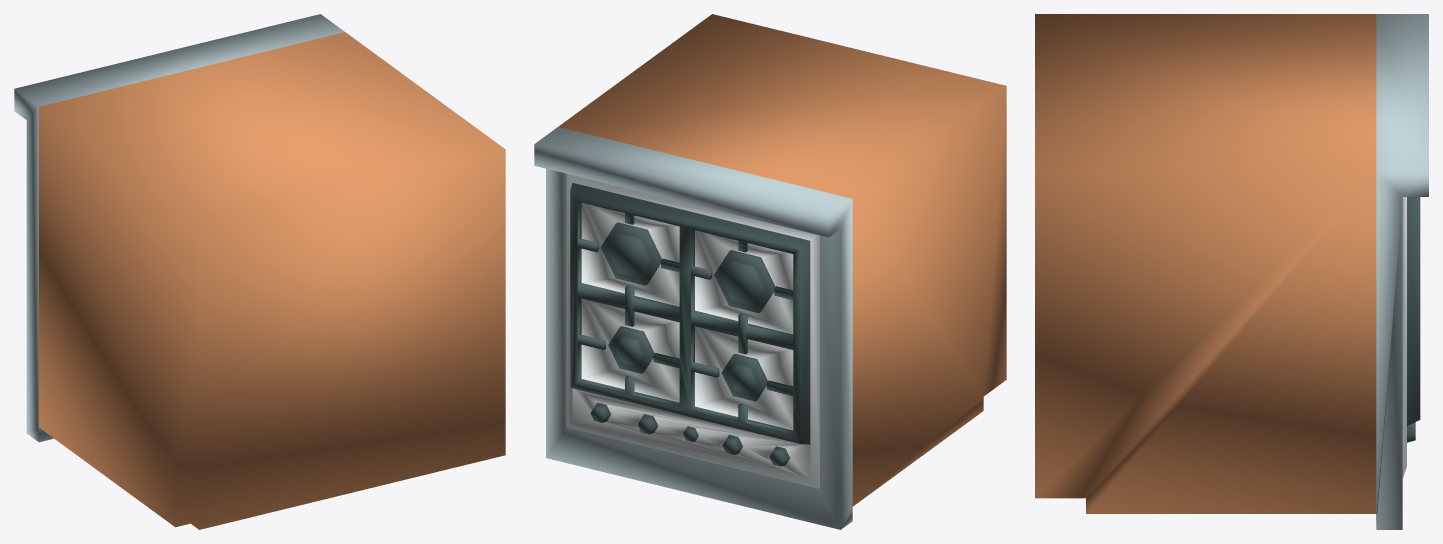
File: kitchenStove.obj
The picture shows the model from 3 angles, left to right: view 1: azimuth 30°, elevation 25°; view 2: azimuth 150°, elevation 25°; view 3: azimuth 270°, elevation 25°; orthographic projection. The views are drawn at different scales.
Parts seen in each view (by area): view 1: kitchenStove; view 2: kitchenStove; view 3: kitchenStove.
Part boxes in pixels (<box>): kitchenStove: <box>14,14,505,529</box>; kitchenStove: <box>534,14,1006,529</box>; kitchenStove: <box>1035,14,1428,529</box>.
Bounding box in the file's own units: 0.43 × 0.45 × 0.45.
